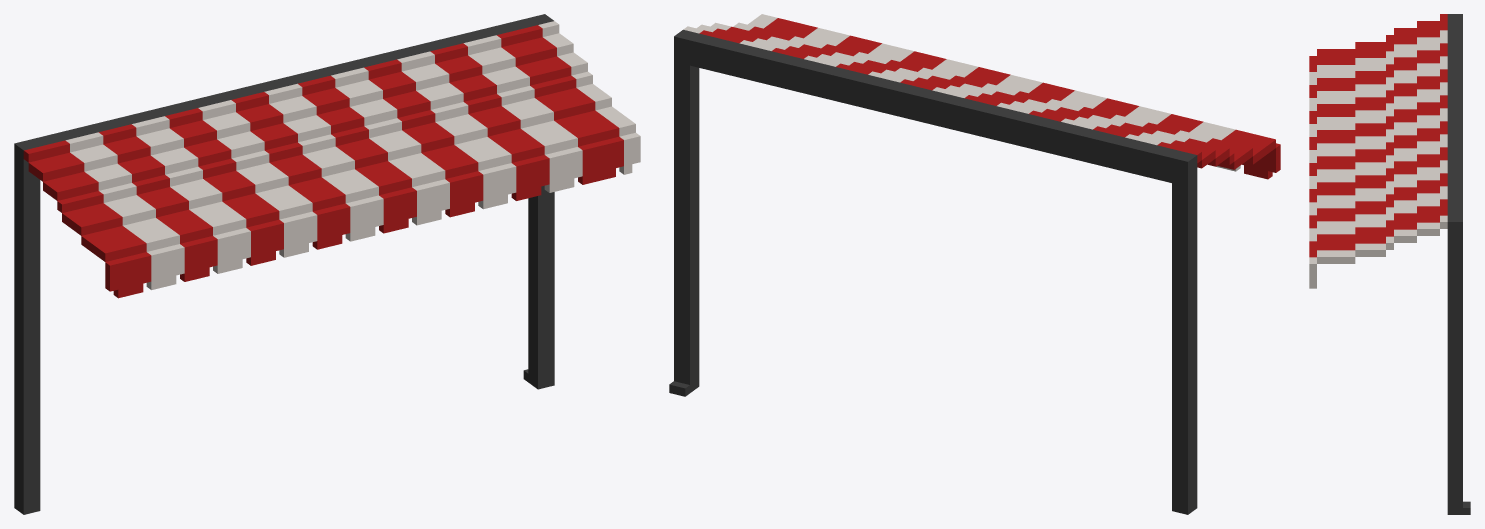
Rendered from ExStore.obj.
3 renders of one model, left to right at view 1: azimuth 30°, elevation 25°; view 2: azimuth 150°, elevation 25°; view 3: azimuth 270°, elevation 25°, orthographic. The views are drawn at different scales.
Bounding box in the file's own units: 6.4 × 4.2 × 2.1.
Materials: 1 (1 with a texture image).
